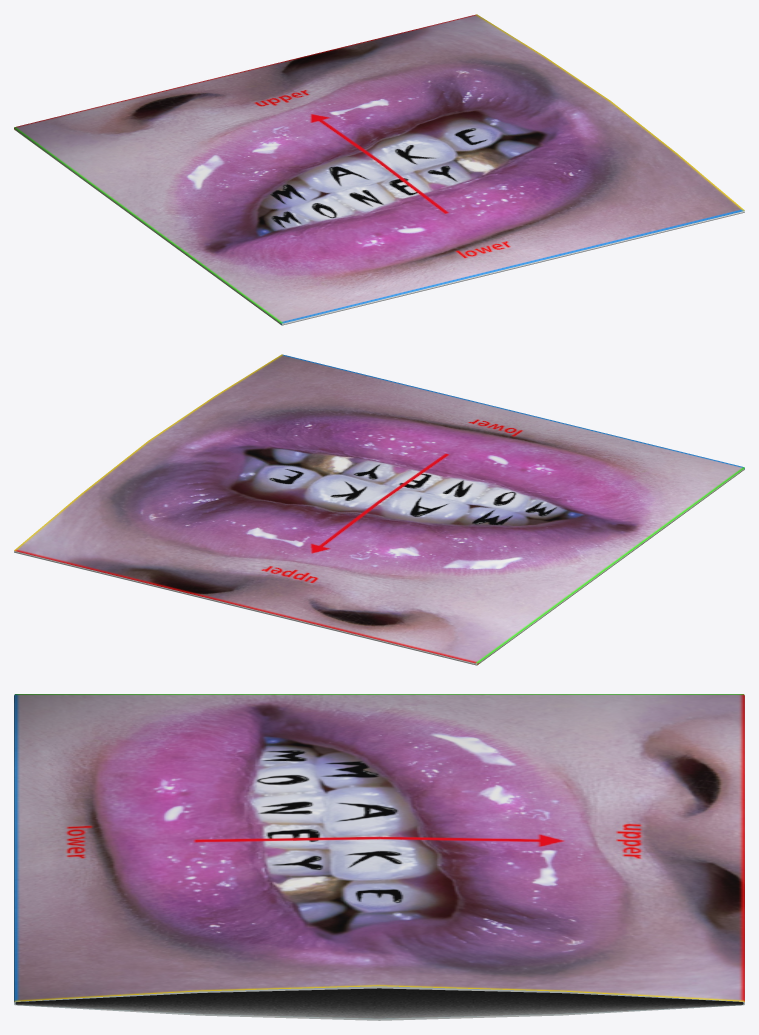
The model's file is sleeve_10_single_no_spine.dae.
3 views of the same model, one above another, from view 1: azimuth 30°, elevation 25°; view 2: azimuth 150°, elevation 25°; view 3: azimuth 270°, elevation 25° (orthographic). The views are drawn at different scales.
Visible parts, largest first — view 1: _10_noSpine_sleeve; view 2: _10_noSpine_sleeve; view 3: _10_noSpine_sleeve.
Part boxes in pixels (bbox=[...]): _10_noSpine_sleeve: bbox=[14, 14, 744, 325]; _10_noSpine_sleeve: bbox=[14, 354, 744, 665]; _10_noSpine_sleeve: bbox=[14, 694, 744, 1020].
Bounding box in the file's own units: 26.43 × 1.38 × 26.5.
1 material, 1 textured.
